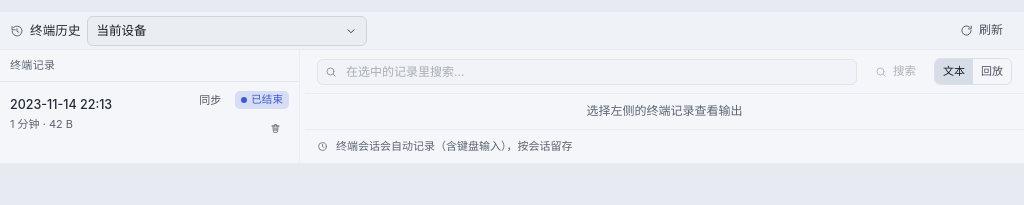
TranscriptHistoryPanel › decodes the reader as a continuous stream across chunks
Click the row "2023-11-14 22:13 1 分钟 · 42 B 同步 已结束" at (61, 104), box [0, 82, 299, 146]
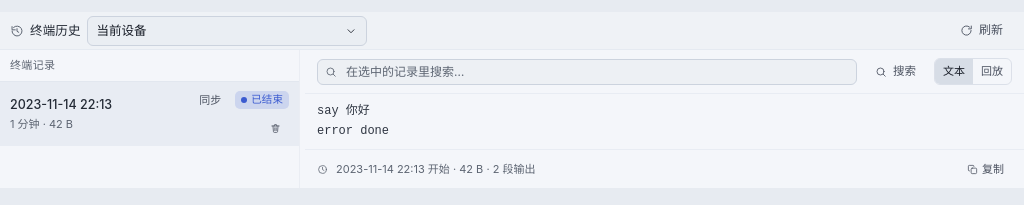
Expected: the element showing "say 你好 error done" is shown, [317, 104, 389, 138]
